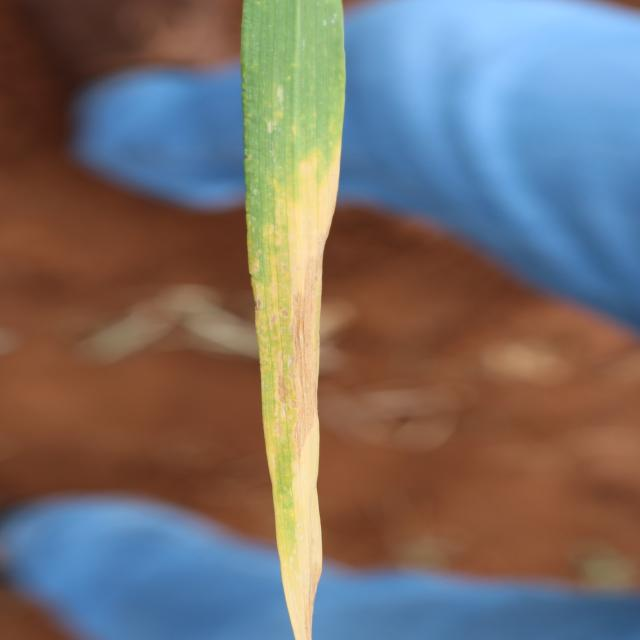Septoria: (239, 1, 347, 638)
